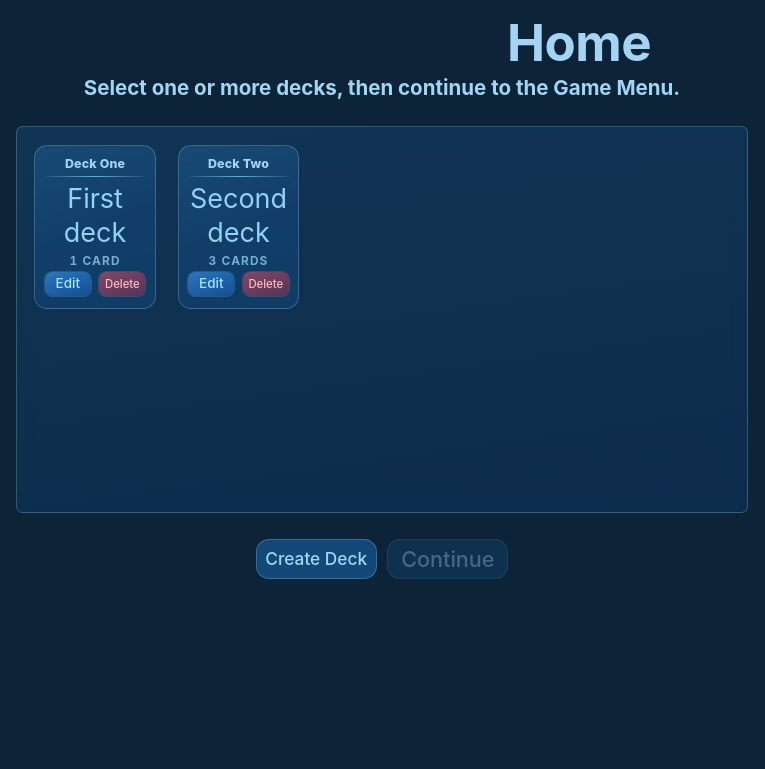
HomePage › Delete failure keeps the deck and shows an error message
What coordinates should you click on to do the following:
click the button "Delete" below "First deck"
I would click on:
 (122, 284)
Its box is [98,271,146,297].
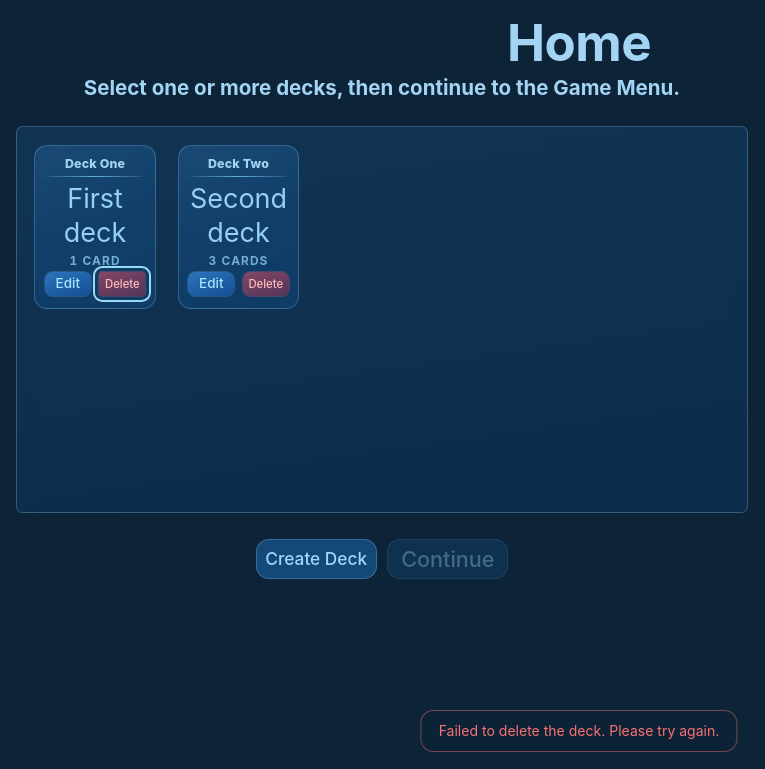
Expected: the text "Deck One" is shown, [65,156,125,170]
Result: the text "Failed to delete the deck. Please try again." is shown at [420,710,738,752]
